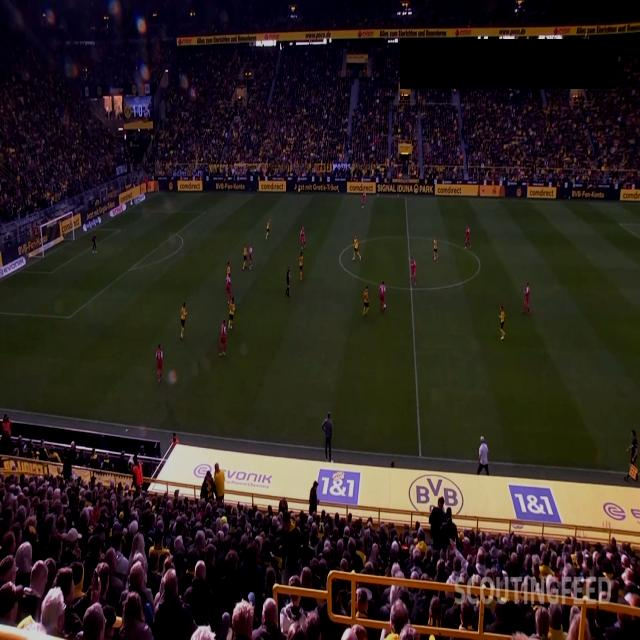ball: (382, 302, 388, 314)
f_player: (153, 343, 167, 389), (179, 300, 189, 346), (218, 318, 228, 362), (408, 256, 420, 292), (498, 302, 507, 350), (295, 251, 307, 286), (352, 235, 364, 270), (226, 295, 236, 333), (362, 284, 371, 322), (378, 278, 386, 316), (522, 282, 530, 318), (265, 215, 273, 250), (360, 186, 368, 218), (464, 224, 472, 254), (242, 242, 249, 274), (248, 244, 255, 276), (300, 223, 308, 251), (91, 232, 98, 262), (432, 235, 439, 265), (225, 270, 231, 302), (226, 258, 232, 288)
umpire: (624, 425, 638, 483), (284, 264, 292, 304)
